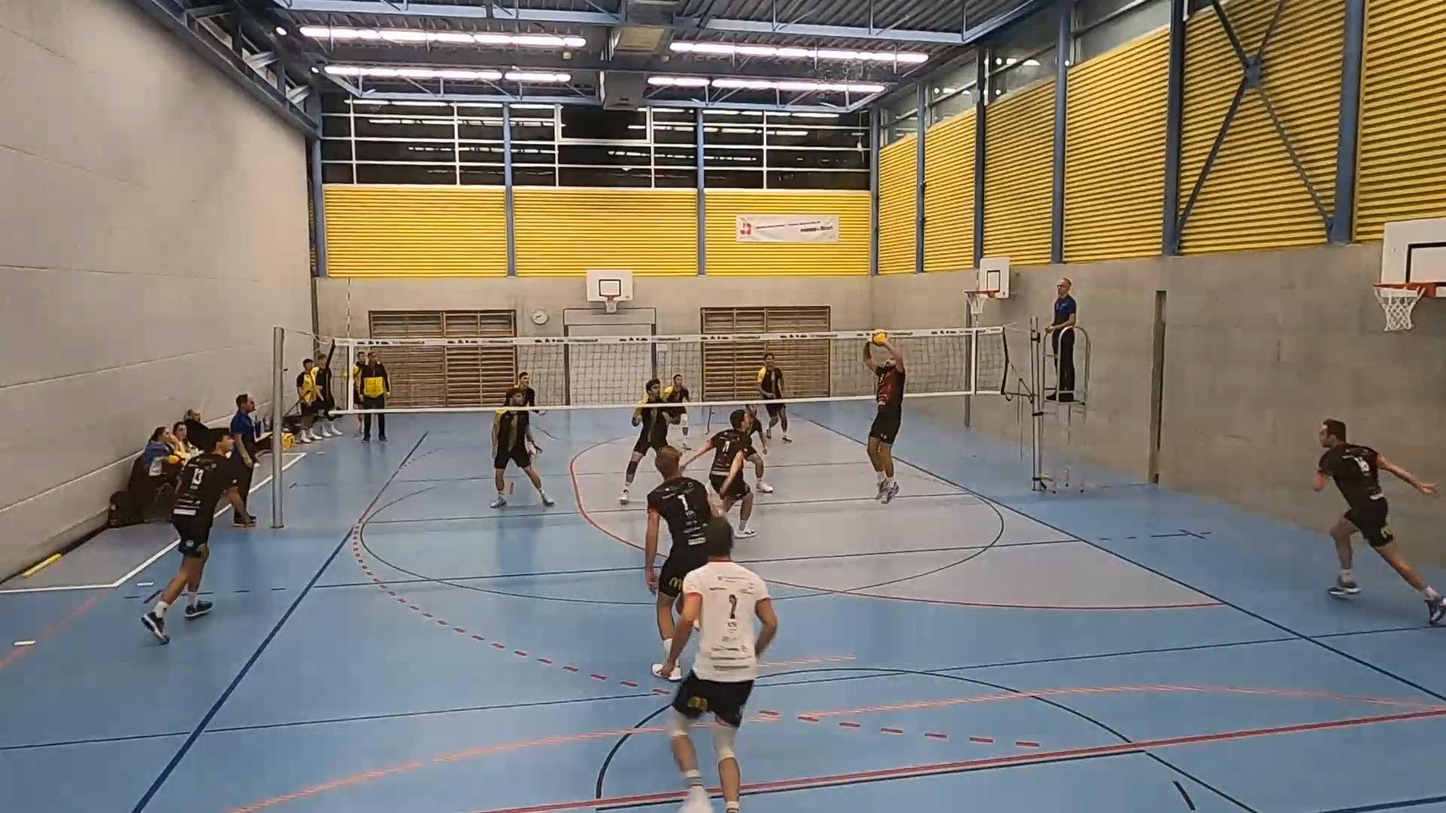alzata: (861, 340, 910, 502)
